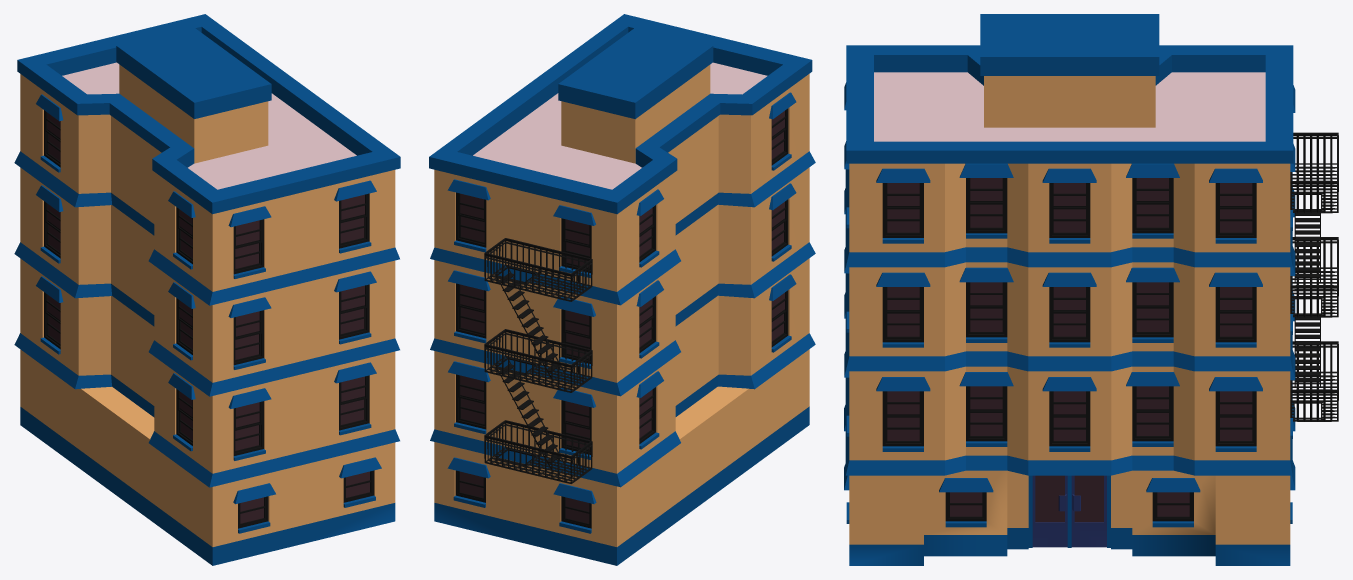
File: PublicBuilding_9.glb
3 views of the same model, side by side, from view 1: azimuth 30°, elevation 25°; view 2: azimuth 150°, elevation 25°; view 3: azimuth 270°, elevation 25° (orthographic). The views are drawn at different scales.
Visible parts, largest first — view 1: PublicBuilding_9; view 2: PublicBuilding_9; view 3: PublicBuilding_9.
Part boxes in pixels (bbox=[...]): PublicBuilding_9: bbox=[14, 14, 400, 565]; PublicBuilding_9: bbox=[429, 14, 815, 565]; PublicBuilding_9: bbox=[844, 14, 1338, 565].
Bounding box in the file's own units: 0.0351 × 0.0721 × 0.0686.
Materials: 1 (1 with a texture image).
